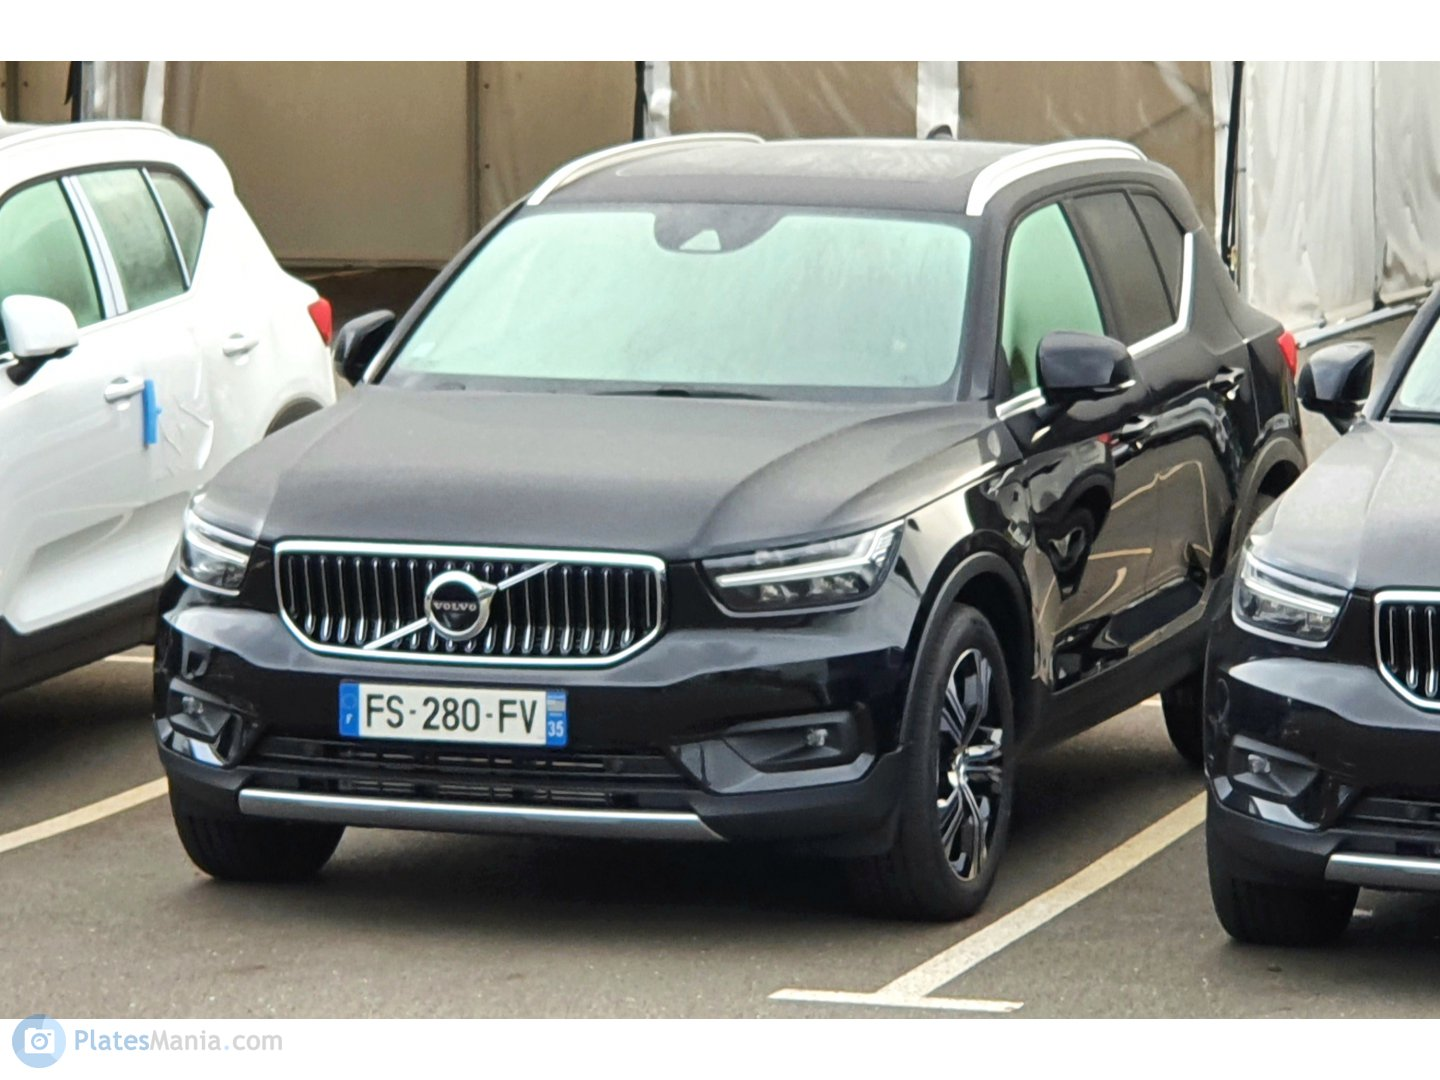licence plate: (329, 673, 578, 752)
